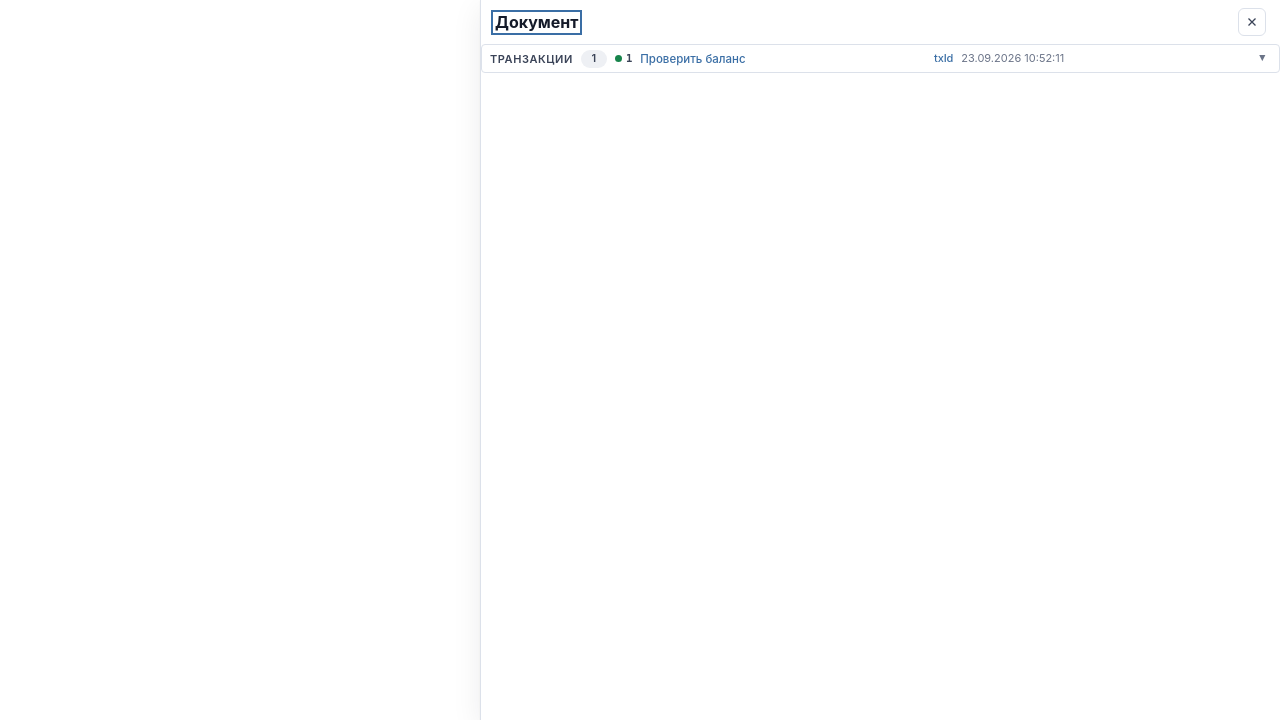
«Проверить баланс» в блоке «Транзакции» (спека 2e §4 п. 7, 8) › клик, Enter и Space по ссылке не меняют aria-expanded блока; поповер — load, таблица
Click the button "Проверить баланс" at (693, 58), box [640,52,746,66]
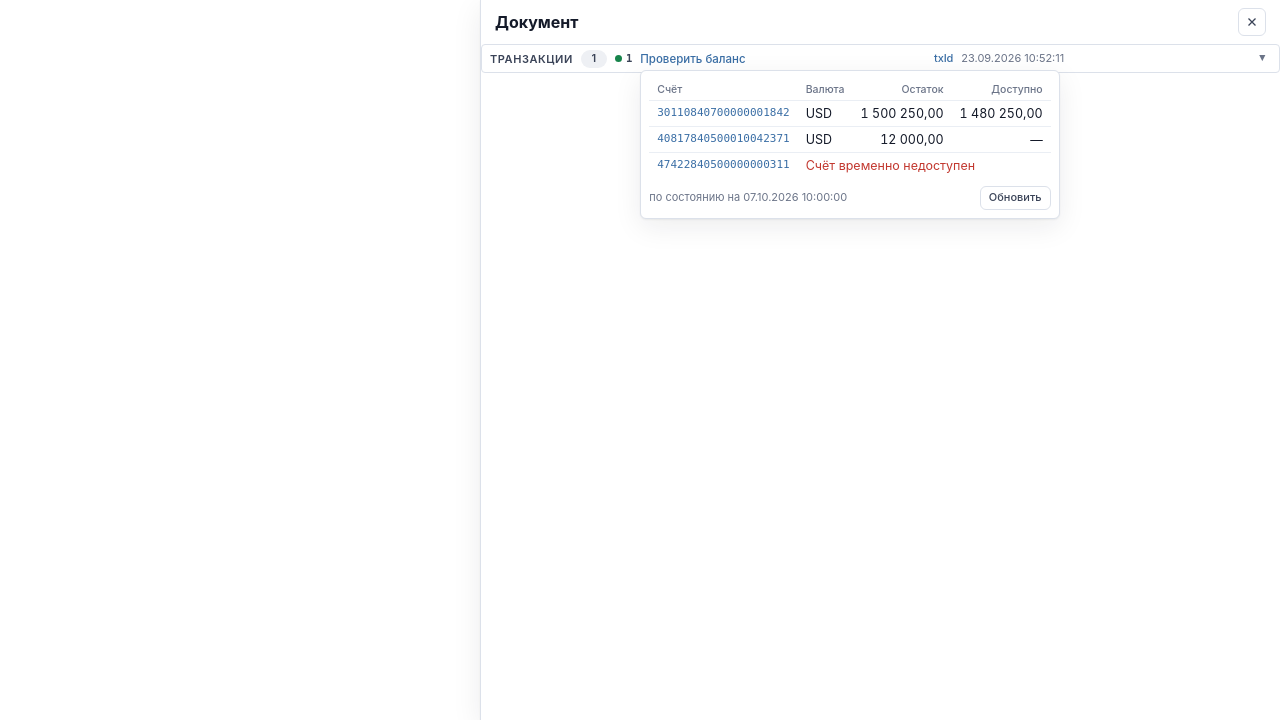
Expected: the table is shown, [649,78,1051,178]
Press Escape
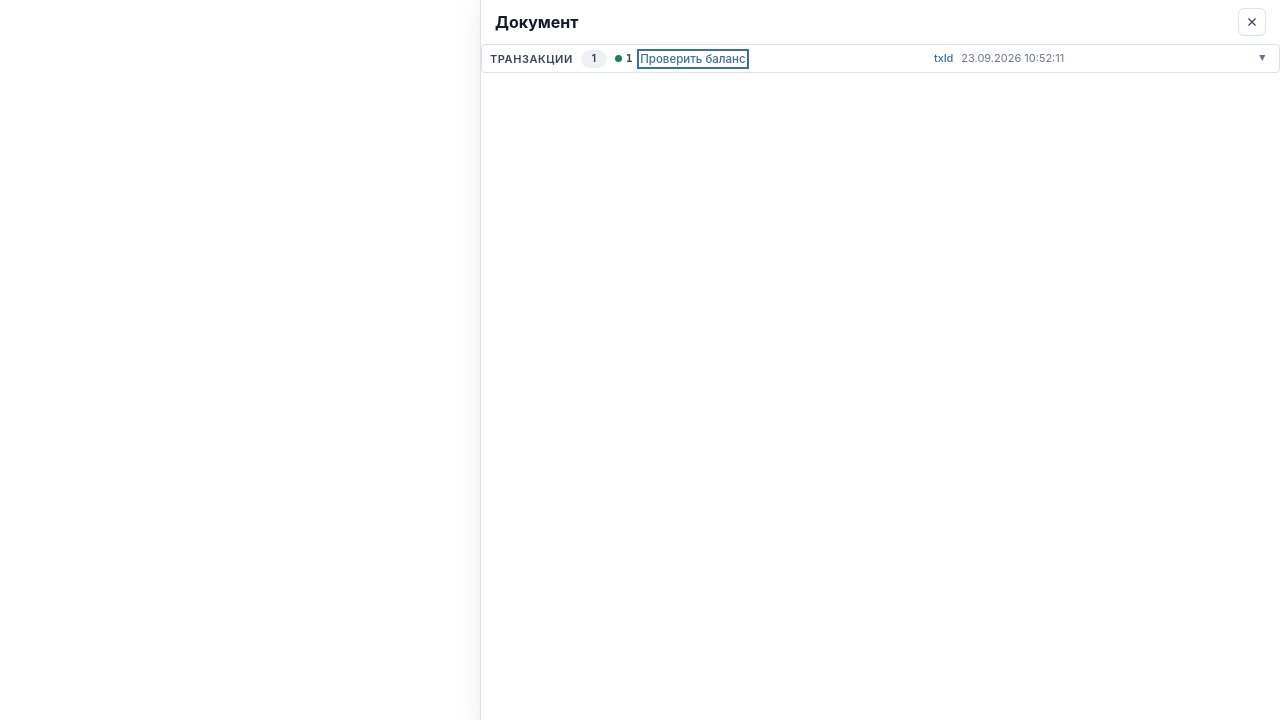
Press Enter
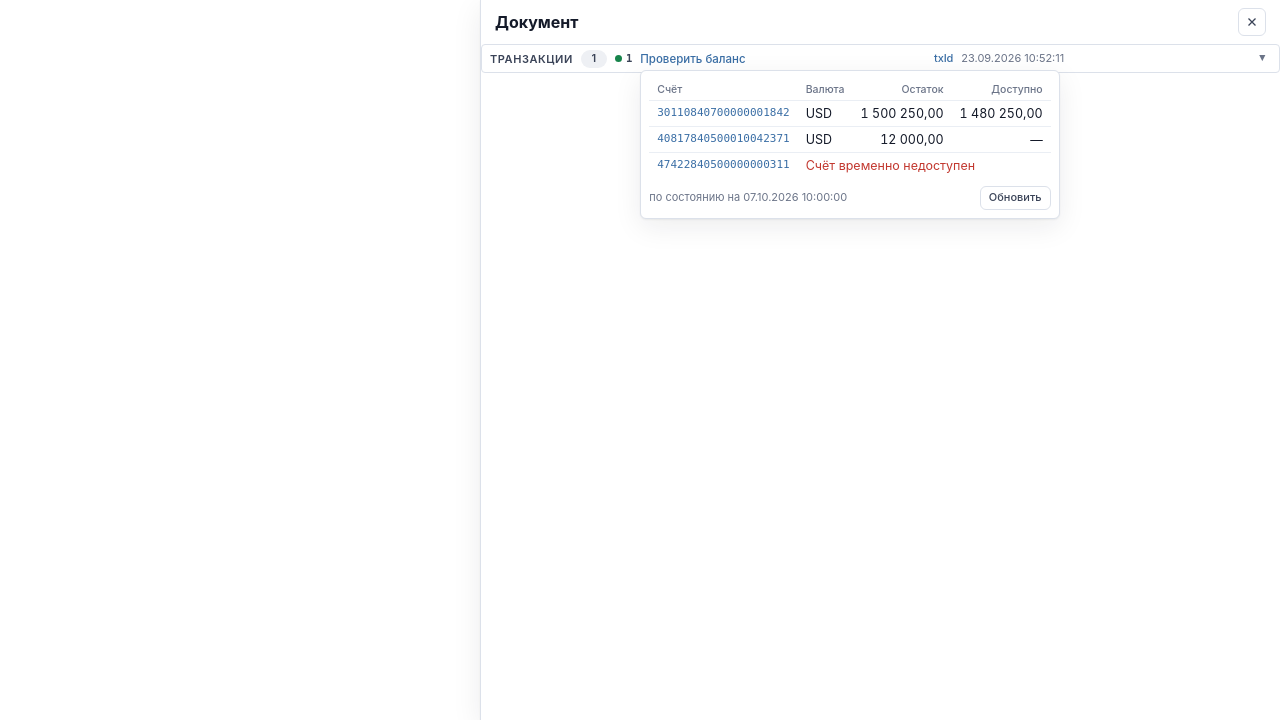
Expected: the dialog named "Проверить баланс" is shown, [640,70,1060,218]
Press Escape
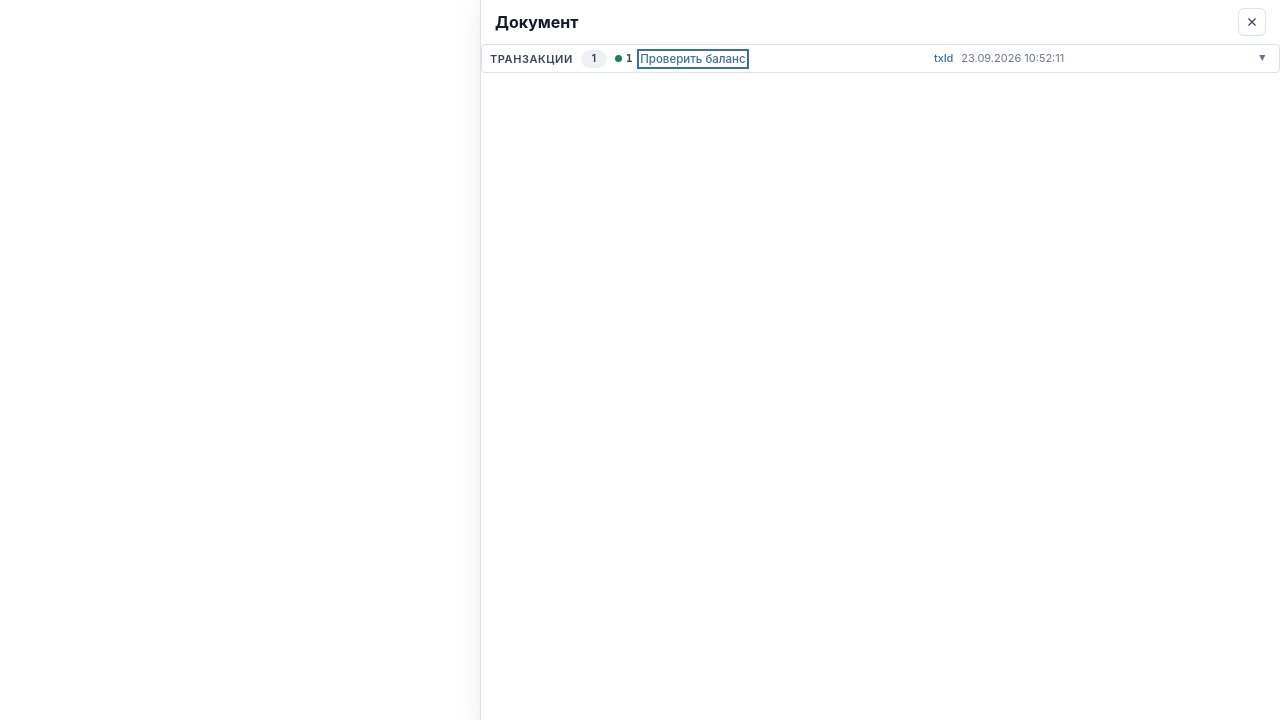
Type keys " "
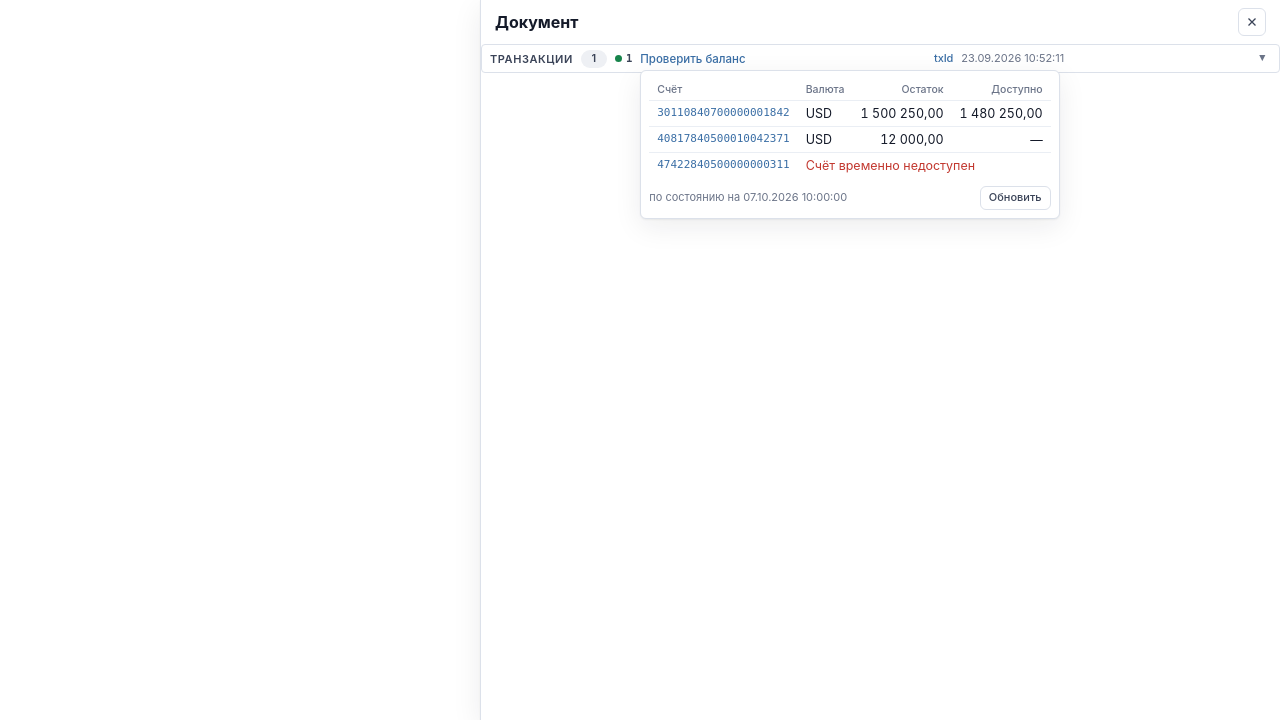
Expected: the dialog named "Проверить баланс" is shown, [640,70,1060,218]
